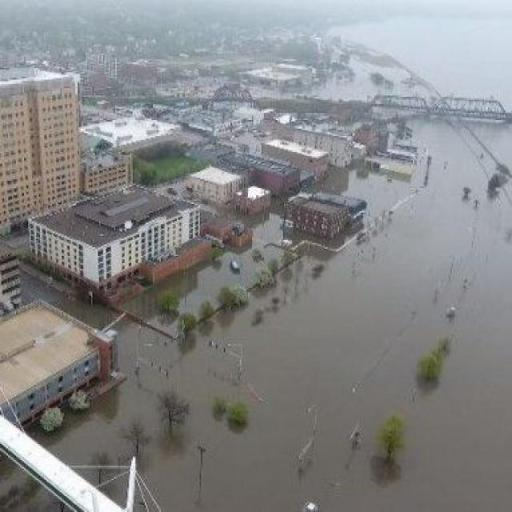flood: (26, 119, 512, 512), (375, 417, 512, 512), (123, 250, 262, 336), (23, 269, 116, 328), (1, 462, 61, 512), (253, 213, 283, 260)
house: (32, 180, 218, 300), (0, 70, 84, 228), (0, 308, 110, 421), (84, 115, 184, 159), (288, 192, 354, 244), (264, 138, 333, 184), (191, 164, 240, 205), (255, 64, 317, 90), (236, 181, 270, 222), (197, 108, 246, 136)
